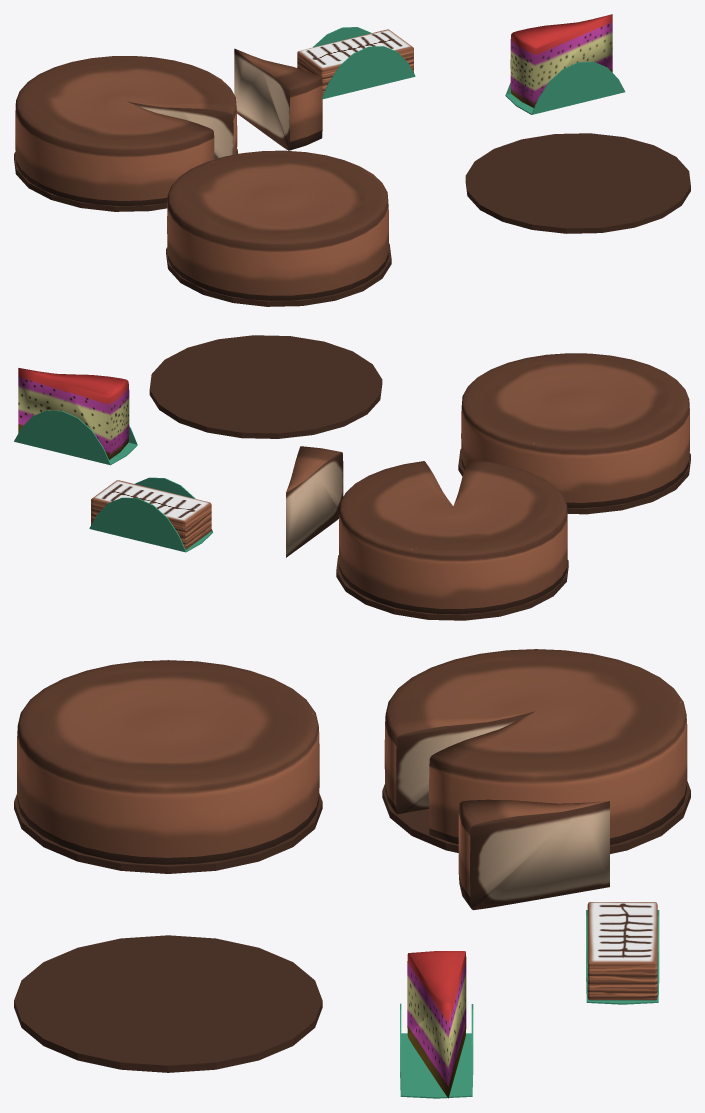
Rendered from pasteles.obj.
3 renders of one model, top to bottom at view 1: azimuth 30°, elevation 25°; view 2: azimuth 150°, elevation 25°; view 3: azimuth 270°, elevation 25°, orthographic. The views are drawn at different scales.
Visible parts, largest first — view 1: Circle.009_Circle.010; view 2: Circle.009_Circle.010; view 3: Circle.009_Circle.010.
Boxes of the visible parts, x1=… form: Circle.009_Circle.010: x1=14, y1=14, x2=690, y2=306; Circle.009_Circle.010: x1=14, y1=335, x2=690, y2=620; Circle.009_Circle.010: x1=14, y1=649, x2=690, y2=1098.
Size of the model in its own units: 5.62 by 0.634 by 4.39.
5 materials, 4 textured.
